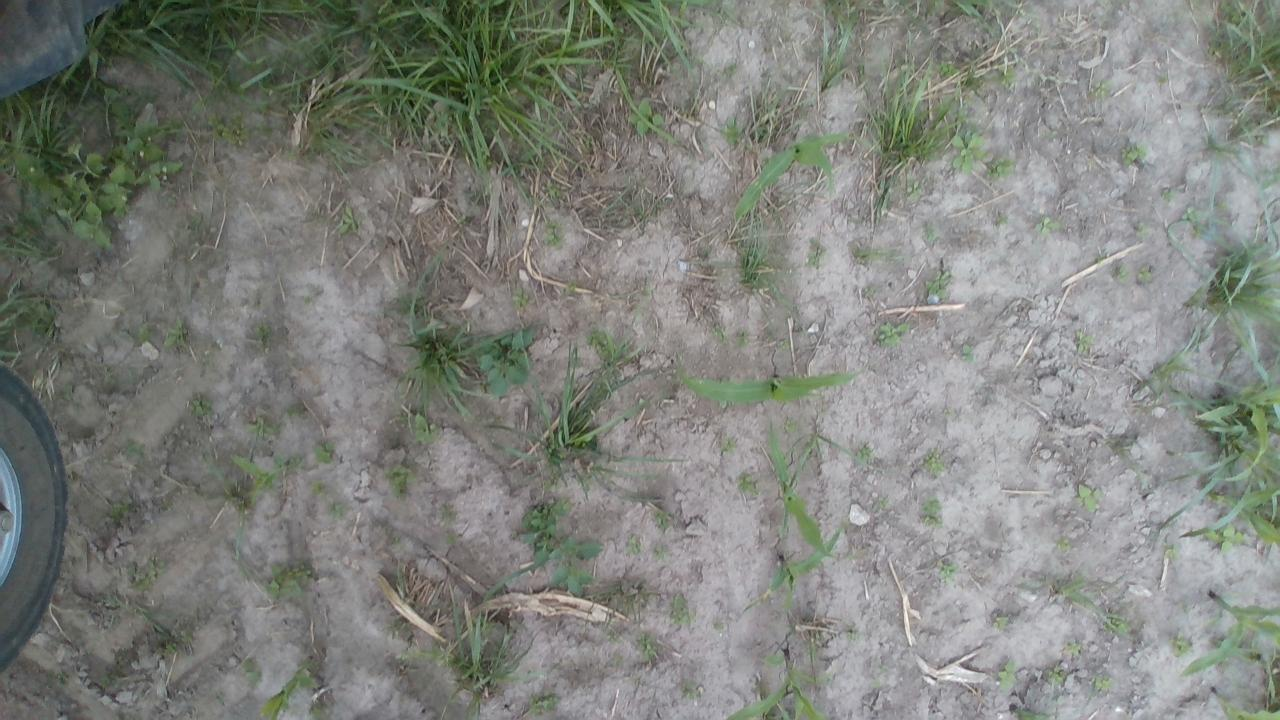Maize: (759, 418, 848, 566), (666, 348, 872, 409), (730, 120, 853, 222), (1178, 580, 1280, 678), (742, 526, 845, 616), (728, 658, 836, 720), (255, 655, 322, 720), (1209, 686, 1280, 720)
Weeds: (71, 0, 692, 166), (342, 112, 692, 310), (0, 55, 179, 243), (1137, 331, 1280, 558), (498, 303, 646, 505), (412, 560, 541, 718), (865, 45, 978, 225), (397, 272, 532, 414), (0, 210, 67, 387), (1184, 228, 1280, 347), (1207, 0, 1280, 151), (1201, 132, 1280, 255), (514, 496, 597, 594), (202, 452, 272, 558), (725, 225, 800, 314), (721, 76, 812, 149), (864, 0, 1022, 39), (384, 562, 456, 646), (1039, 574, 1132, 636), (808, 4, 868, 97), (578, 579, 660, 632), (102, 592, 180, 640), (944, 127, 1002, 178), (116, 557, 182, 600), (1098, 428, 1148, 483), (789, 429, 844, 474), (266, 564, 318, 607), (315, 198, 368, 238), (841, 241, 912, 270), (868, 318, 916, 360), (798, 616, 838, 659), (380, 466, 420, 509), (1178, 207, 1224, 243), (662, 587, 698, 632), (1042, 665, 1072, 718), (626, 628, 666, 666), (401, 406, 439, 444), (159, 315, 195, 355), (521, 688, 567, 719), (247, 324, 289, 356), (1086, 76, 1126, 109), (1259, 647, 1280, 709), (794, 238, 832, 272), (1115, 140, 1154, 170), (916, 493, 946, 532), (922, 264, 952, 301), (248, 418, 286, 447), (676, 676, 712, 706), (200, 683, 232, 715), (989, 58, 1020, 89), (1072, 484, 1103, 515), (1166, 627, 1196, 659), (234, 657, 266, 687), (58, 386, 90, 415), (924, 448, 950, 483), (124, 436, 154, 466), (989, 155, 1018, 186), (1071, 325, 1100, 355), (932, 555, 959, 587), (274, 450, 306, 477), (1032, 212, 1062, 240), (994, 661, 1020, 693), (186, 393, 218, 419), (322, 493, 350, 522), (536, 224, 567, 250), (108, 502, 140, 526), (736, 472, 764, 499), (848, 442, 877, 468), (534, 182, 568, 204), (992, 611, 1024, 634), (869, 663, 894, 692), (100, 667, 124, 696), (840, 623, 870, 646), (1009, 705, 1054, 720), (715, 432, 742, 456), (1032, 127, 1062, 148), (158, 635, 188, 656), (648, 539, 674, 563), (955, 338, 978, 365), (1054, 534, 1084, 554), (872, 491, 896, 516), (852, 277, 878, 300), (917, 220, 940, 245), (313, 439, 336, 464), (134, 317, 156, 343), (707, 620, 736, 639), (306, 477, 332, 498), (1090, 672, 1114, 694), (650, 510, 675, 531), (623, 534, 644, 559), (99, 363, 122, 385), (778, 414, 801, 435), (1132, 266, 1154, 287), (1063, 636, 1083, 656), (774, 336, 794, 356), (708, 324, 728, 344), (1108, 262, 1128, 280), (1136, 221, 1156, 239), (1158, 185, 1176, 202), (732, 332, 748, 350), (992, 212, 1008, 229), (1090, 252, 1108, 265)
